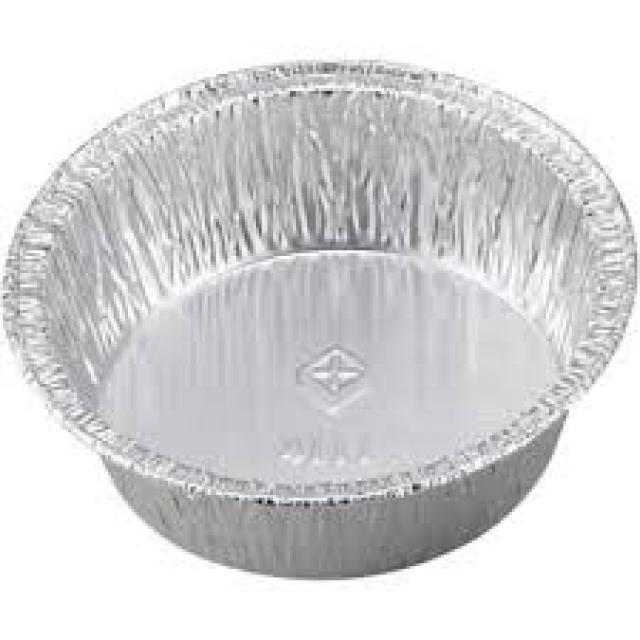metal: (0, 59, 634, 577)
